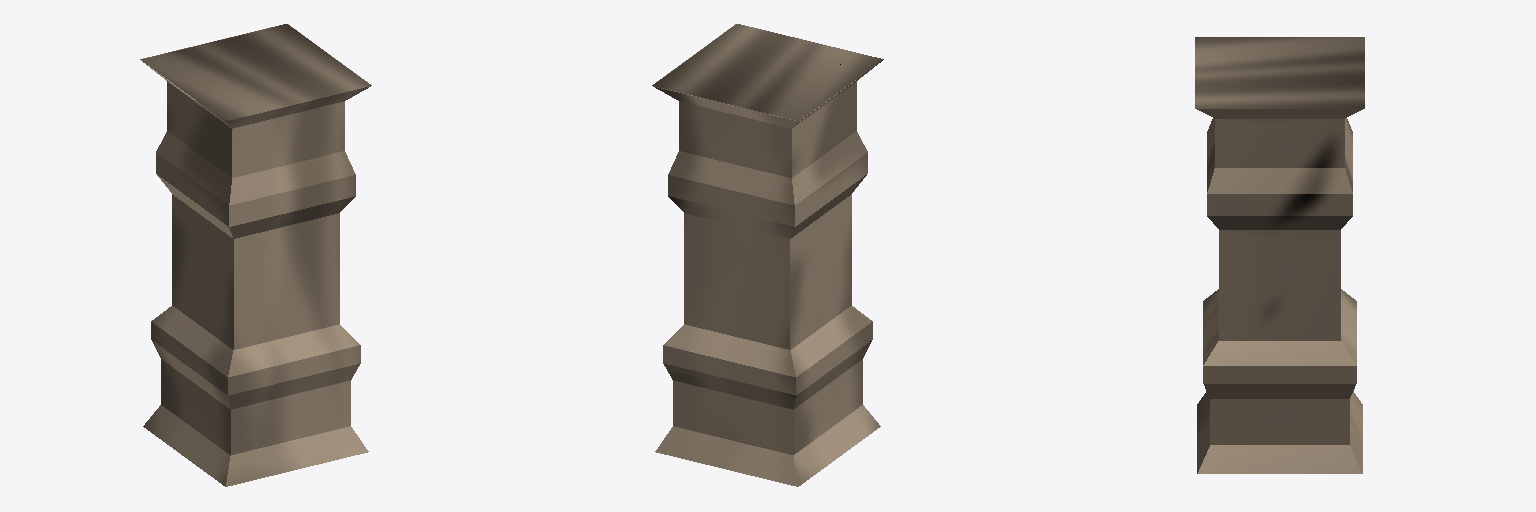
The picture shows the model from 3 angles: view 1: azimuth 30°, elevation 25°; view 2: azimuth 150°, elevation 25°; view 3: azimuth 270°, elevation 25°; orthographic projection.
Parts seen in each view (by area): view 1: Cube; view 2: Cube; view 3: Cube.
Part boxes in pixels (bbox=[...]): Cube: bbox=[140, 24, 371, 486]; Cube: bbox=[652, 24, 883, 486]; Cube: bbox=[1195, 37, 1364, 473].
Bounding box in the file's own units: 2.78 × 6.6 × 2.78.
Materials: 1 (1 with a texture image).